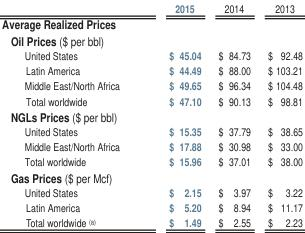table: (1, 0, 301, 229)
table column: (1, 0, 143, 229), (143, 0, 209, 229), (209, 0, 258, 229), (258, 0, 301, 229)
table column header: (1, 0, 301, 15)
table projected row header: (1, 31, 301, 48), (1, 15, 301, 31), (1, 107, 301, 123), (1, 168, 301, 184)
table row: (1, 31, 301, 48), (1, 15, 301, 31), (1, 107, 301, 123), (1, 168, 301, 184), (1, 0, 301, 15), (1, 62, 301, 77), (1, 77, 301, 92), (1, 92, 301, 107), (1, 123, 301, 138), (1, 138, 301, 153), (1, 153, 301, 168), (1, 184, 301, 199), (1, 199, 301, 214), (1, 214, 301, 229), (1, 48, 301, 62)
